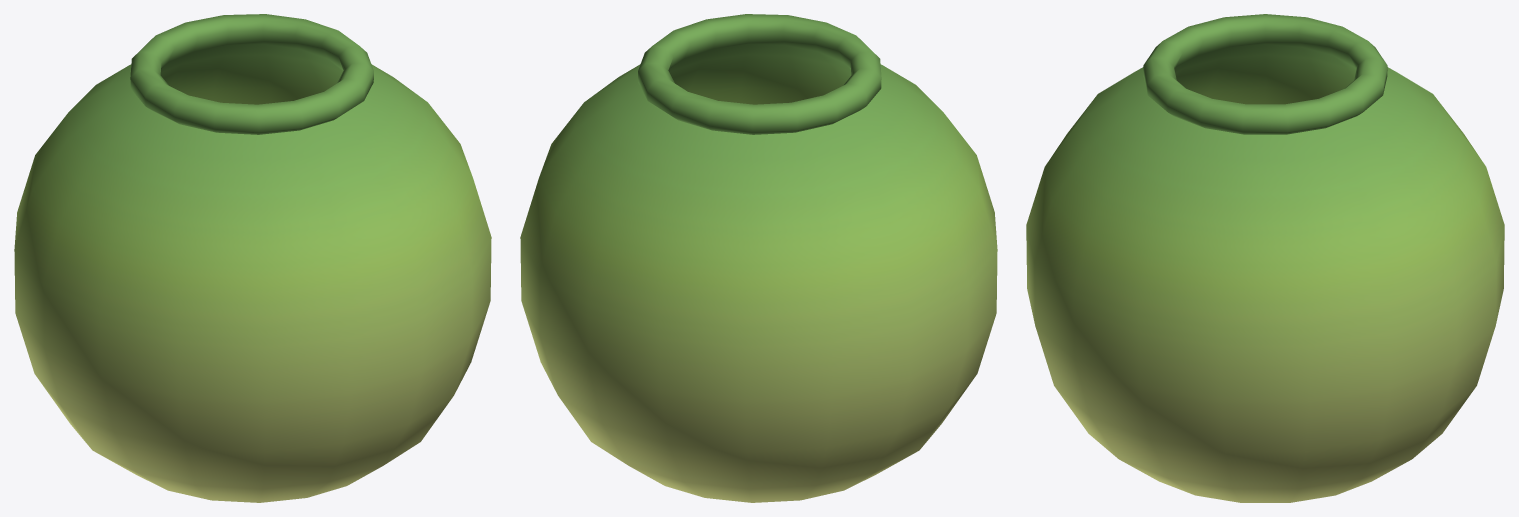
The model's file is Vase_Spherical_Green.fbx.
3 views of the same model, side by side, from view 1: azimuth 30°, elevation 25°; view 2: azimuth 150°, elevation 25°; view 3: azimuth 270°, elevation 25° (orthographic).
Parts seen in each view (by area): view 1: Vase_Spherical_Green; view 2: Vase_Spherical_Green; view 3: Vase_Spherical_Green.
Part boxes in pixels (x1,y1,x2,y2): Vase_Spherical_Green: (14,14,491,502); Vase_Spherical_Green: (520,14,997,502); Vase_Spherical_Green: (1026,14,1504,502).
Size of the model in its own units: 126 by 118 by 127.
